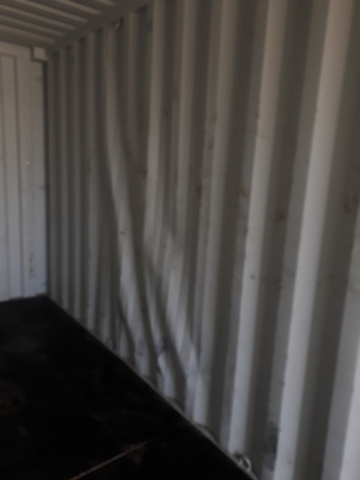dented: (99, 184, 229, 432)
